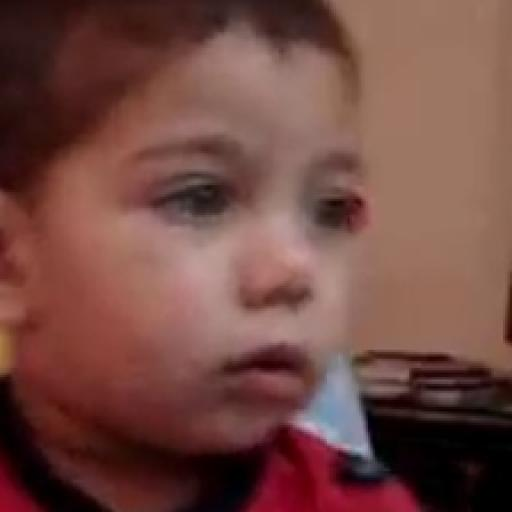Autism: (25, 18, 512, 497)
